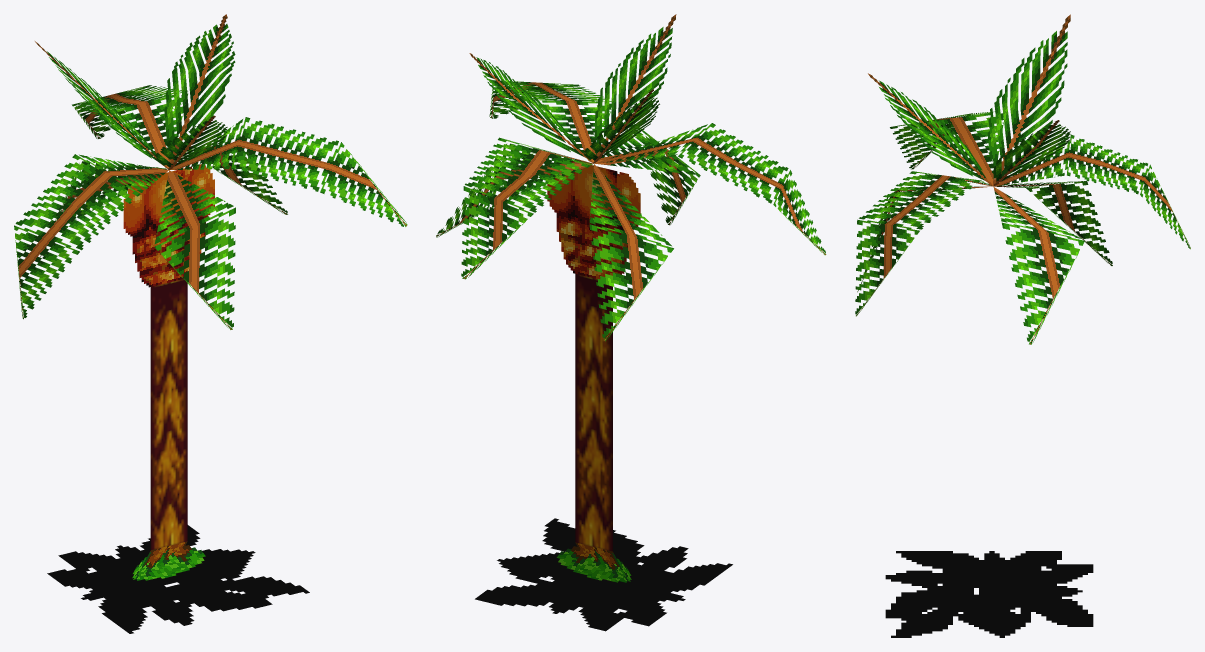
File: Yashi.dae
3 views of the same model, side by side, from view 1: azimuth 30°, elevation 25°; view 2: azimuth 150°, elevation 25°; view 3: azimuth 270°, elevation 25° (orthographic). The views are drawn at different scales.
Parts seen in each view (by area): view 1: part134, part135, part_trans_134; view 2: part134, part135, part_trans_134; view 3: part134, part_trans_134.
Boxes of the visible parts, box(x1,y1,x2,y2) form: part134: box(14, 14, 407, 329); part135: box(123, 164, 214, 580); part_trans_134: box(47, 525, 309, 633); part134: box(436, 14, 826, 341); part135: box(547, 158, 640, 582); part_trans_134: box(475, 518, 732, 631); part134: box(855, 14, 1190, 344); part_trans_134: box(885, 551, 1093, 637).
Size of the model in its own units: 19.82 by 16.11 by 28.22.
